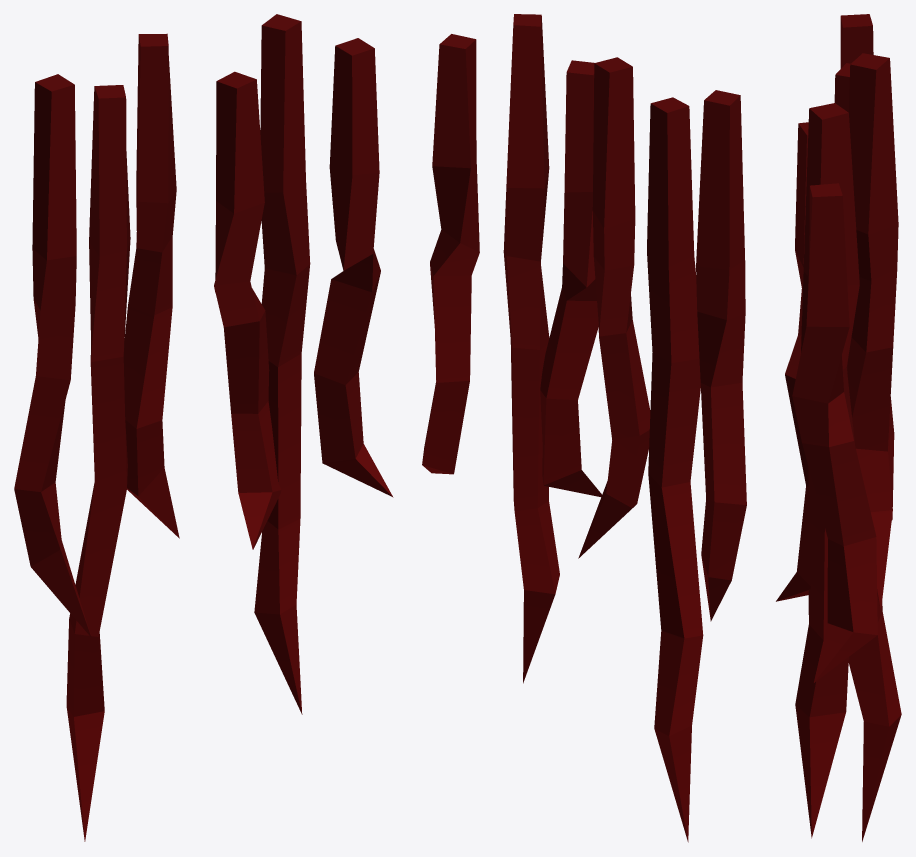
File: SM_Gen_Env_Vines_03.gltf
3 renders of one model, left to right at view 1: azimuth 30°, elevation 25°; view 2: azimuth 150°, elevation 25°; view 3: azimuth 270°, elevation 25°, orthographic. The views are drawn at different scales.
Visible parts, largest first — view 1: SM_Gen_Env_Vines_03; view 2: SM_Gen_Env_Vines_03; view 3: SM_Gen_Env_Vines_03.
Boxes of the visible parts, x1,y1,x2,y2 form: SM_Gen_Env_Vines_03: (14, 14, 393, 841); SM_Gen_Env_Vines_03: (422, 14, 746, 842); SM_Gen_Env_Vines_03: (776, 14, 901, 841).
Size of the model in its own units: 0.8888 by 1.91 by 0.2645.
